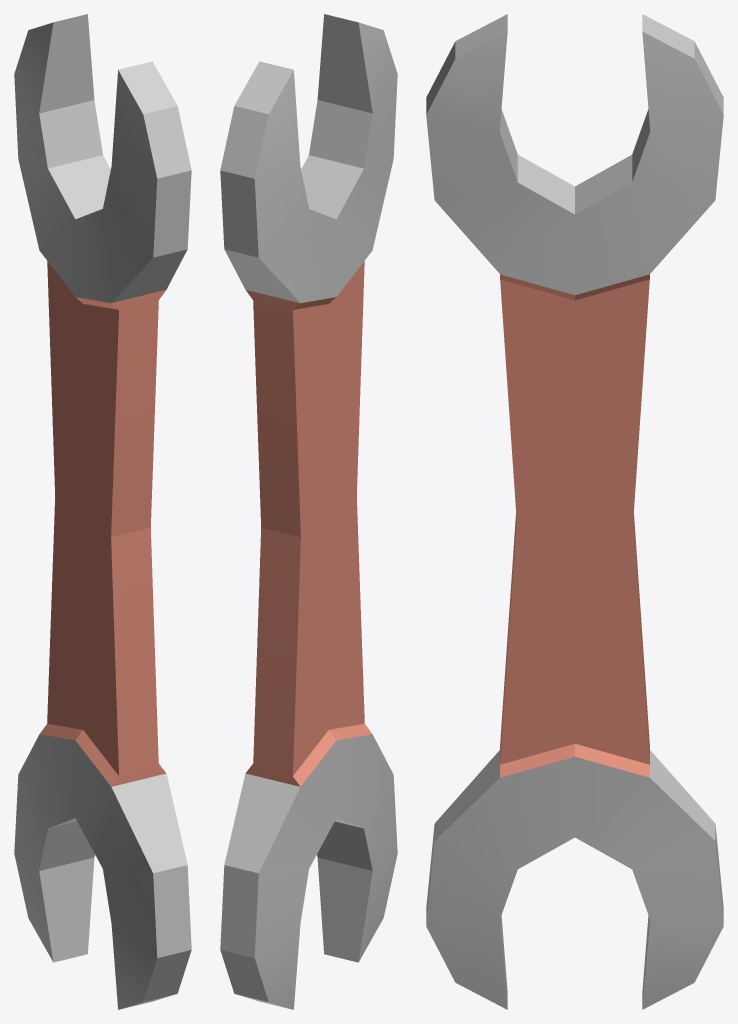
The model's file is wrench.fbx.
The picture shows the model from 3 angles, left to right: view 1: azimuth 30°, elevation 25°; view 2: azimuth 150°, elevation 25°; view 3: azimuth 270°, elevation 25°; orthographic projection. The views are drawn at different scales.
Parts seen in each view (by area): view 1: wrench; view 2: wrench; view 3: wrench.
Boxes of the visible parts, bbox=[...] form: wrench: bbox=[14, 14, 191, 1009]; wrench: bbox=[220, 14, 397, 1009]; wrench: bbox=[426, 14, 723, 1009].
Size of the model in its own units: 17.02 by 277 by 76.34.
